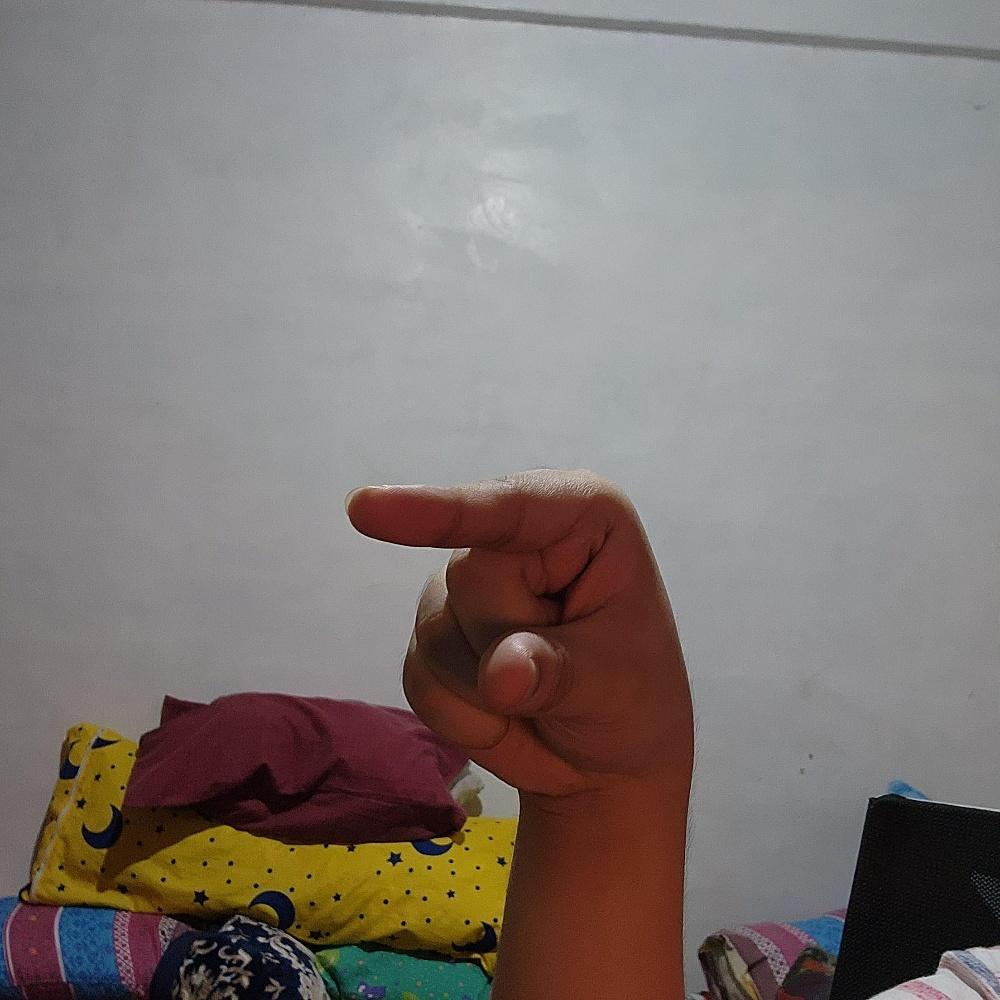z: (345, 467, 696, 797)
